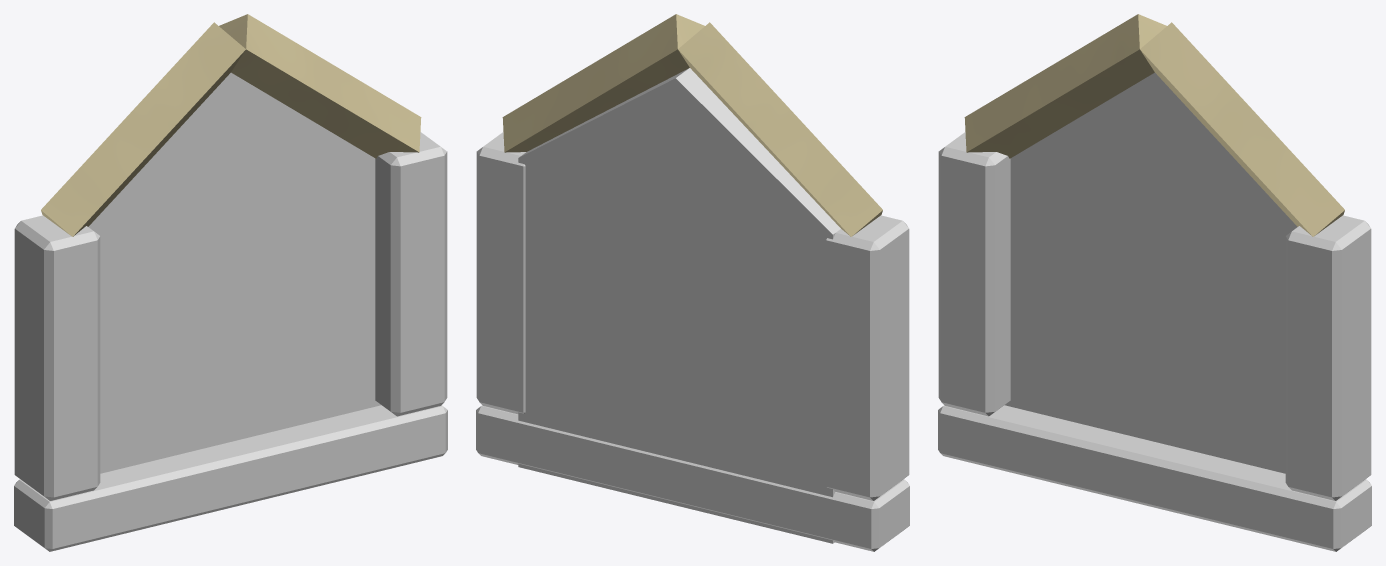
Rendered from WarrensC_WVC010_BurialNicheFrame_Mars_SM.fbx.
The picture shows the model from 3 angles, left to right: view 1: azimuth 30°, elevation 25°; view 2: azimuth 150°, elevation 25°; view 3: azimuth 330°, elevation 25°; orthographic projection.
Visible parts, largest first — view 1: WarrensC_WVC010_BurialNicheFrame_Mars_SM.001; view 2: WarrensC_WVC010_BurialNicheFrame_Mars_SM.001; view 3: WarrensC_WVC010_BurialNicheFrame_Mars_SM.001.
Part boxes in pixels (<box>): WarrensC_WVC010_BurialNicheFrame_Mars_SM.001: <box>14,14,447,551</box>; WarrensC_WVC010_BurialNicheFrame_Mars_SM.001: <box>476,14,909,551</box>; WarrensC_WVC010_BurialNicheFrame_Mars_SM.001: <box>938,14,1371,551</box>.
Bounding box in the file's own units: 160 × 25 × 180.
